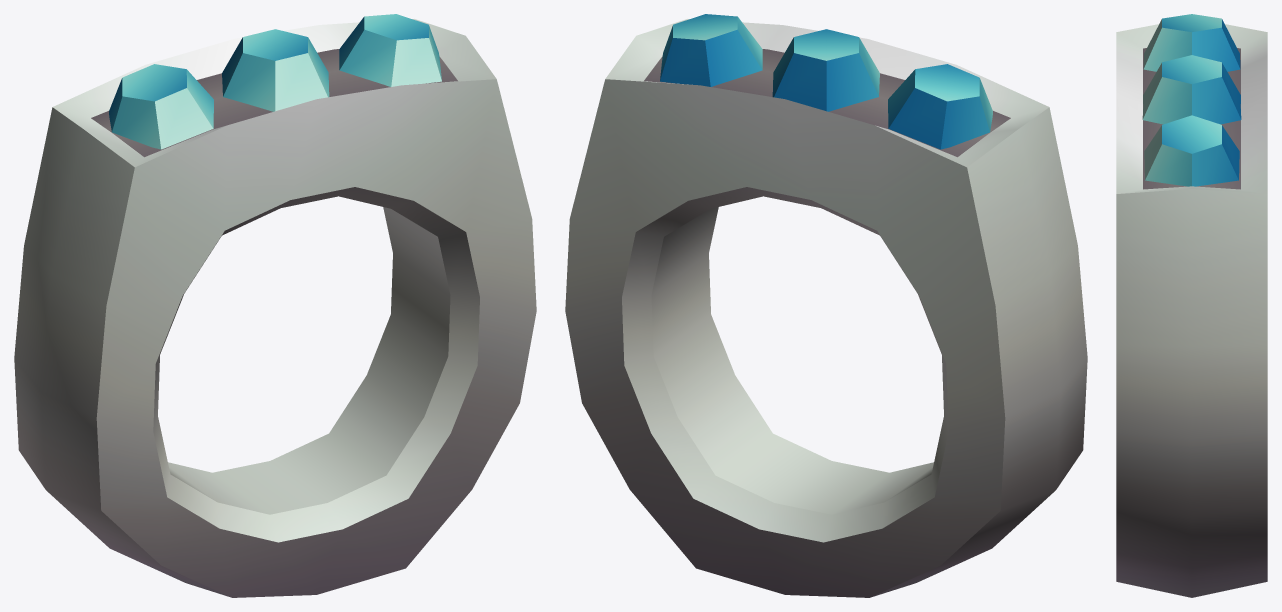
File: Silver_Gem_Ring_02.glb
3 renders of one model, left to right at view 1: azimuth 30°, elevation 25°; view 2: azimuth 150°, elevation 25°; view 3: azimuth 270°, elevation 25°, orthographic. The views are drawn at different scales.
Parts seen in each view (by area): view 1: Silver_Gem_Ring_02; view 2: Silver_Gem_Ring_02; view 3: Silver_Gem_Ring_02.
Boxes of the visible parts, x1=… form: Silver_Gem_Ring_02: x1=14, y1=14, x2=536, y2=597; Silver_Gem_Ring_02: x1=565, y1=14, x2=1087, y2=597; Silver_Gem_Ring_02: x1=1116, y1=14, x2=1267, y2=597.
Bounding box in the file's own units: 0.4853 × 0.529 × 0.1478.
Materials: 1 (1 with a texture image).
